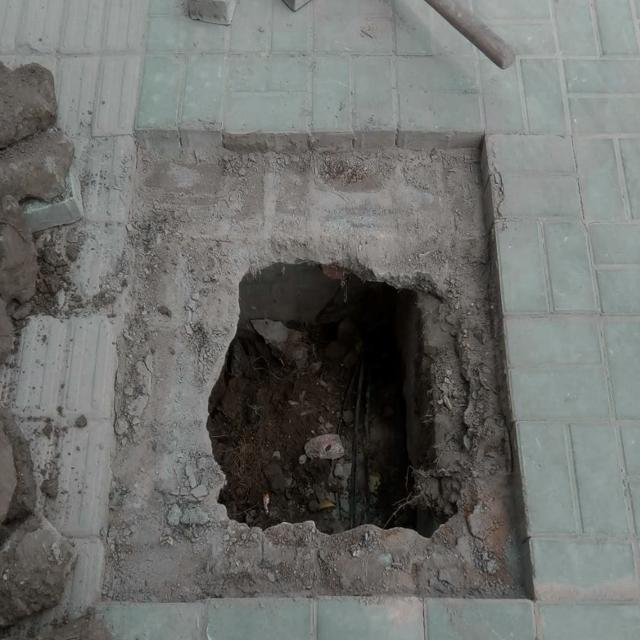lose: (97, 127, 535, 598)
